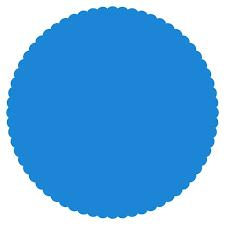blue_circle: (2, 2, 221, 222)
